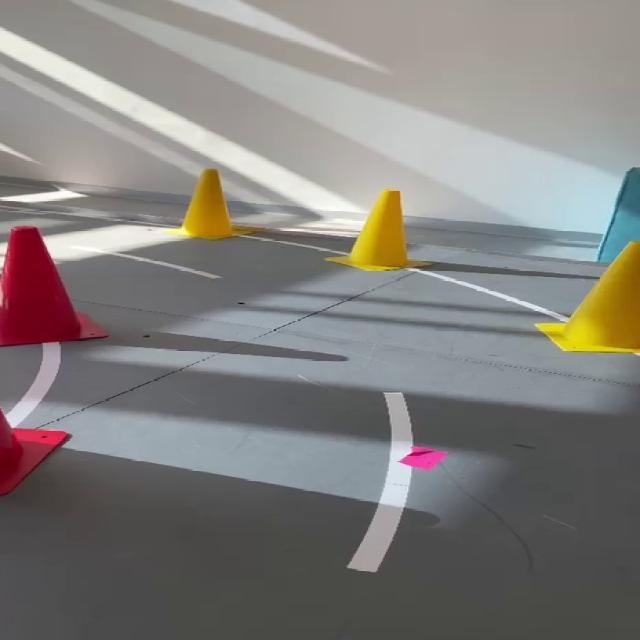Cone-red: (0, 227, 105, 346), (0, 408, 69, 495)
Cones-yellow: (535, 241, 639, 353), (330, 189, 410, 271), (170, 169, 262, 238)
